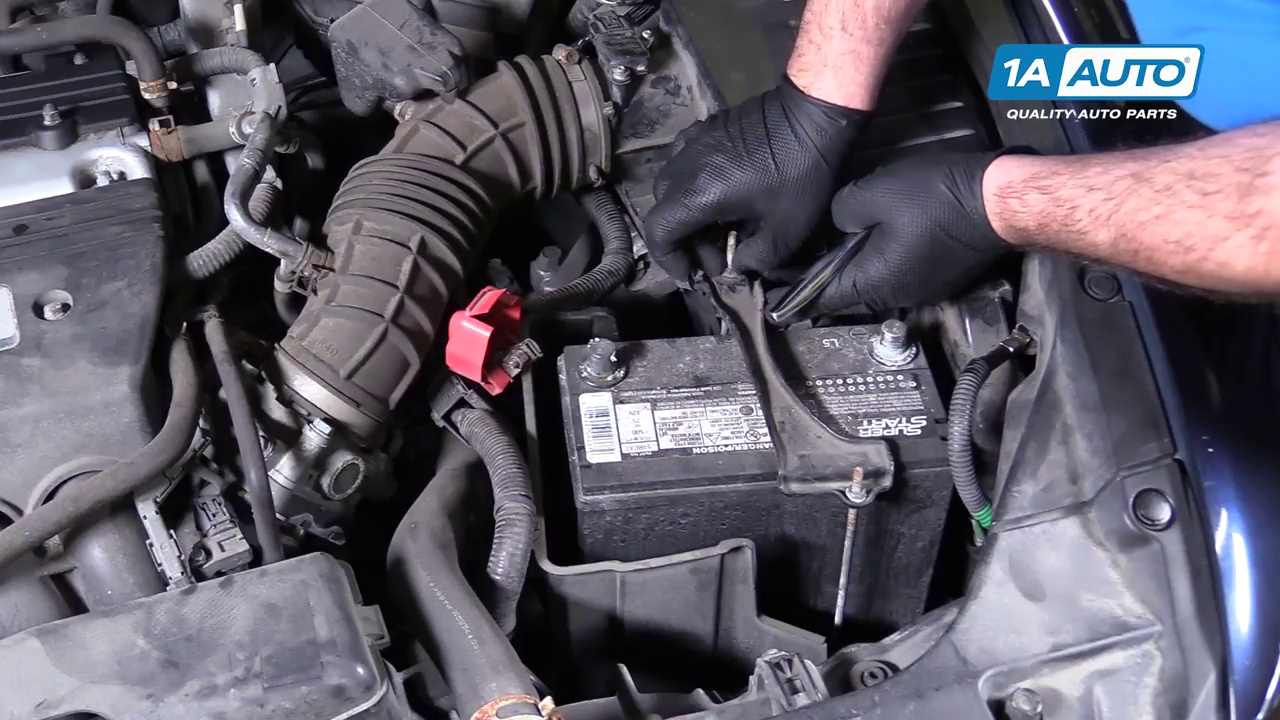battery: (550, 308, 949, 472)
neg_disconnected: (842, 304, 943, 377)
pos_disconnected: (426, 274, 630, 400)
